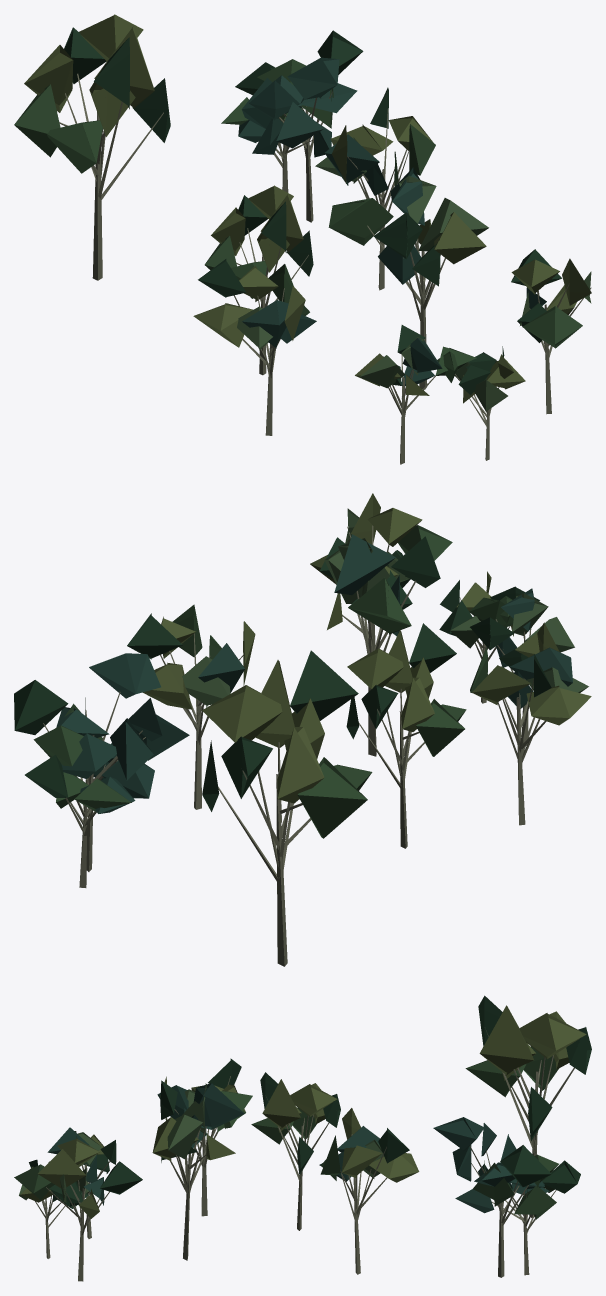
Rendered from forest_16_24.dae.
The picture shows the model from 3 angles, top to bottom: view 1: azimuth 30°, elevation 25°; view 2: azimuth 150°, elevation 25°; view 3: azimuth 270°, elevation 25°; orthographic projection. The views are drawn at different scales.
Parts seen in each view (by area): view 1: Node; view 2: Node; view 3: Node.
Boxes of the visible parts, x1,y1,x2,y2 form: Node: [14, 14, 591, 464]; Node: [14, 493, 591, 966]; Node: [14, 995, 591, 1281].
Bounding box in the file's own units: 5.36 × 9.39 × 4.14.
